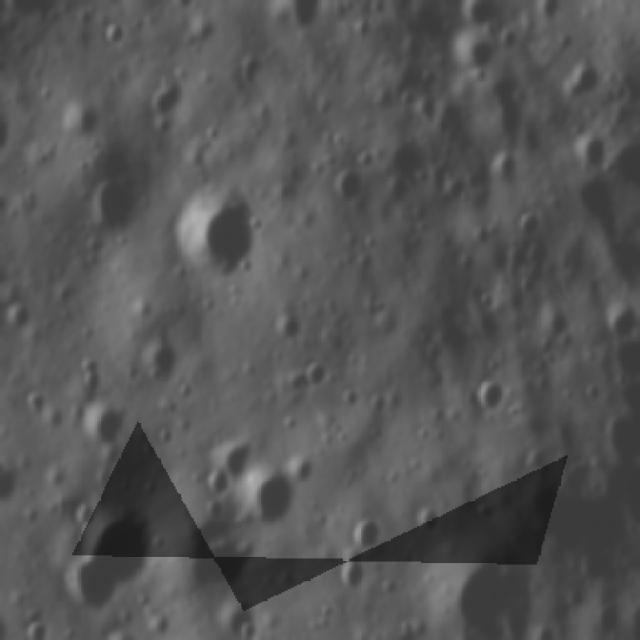crater: (168, 186, 255, 288), (60, 511, 154, 603), (238, 480, 302, 528), (547, 65, 595, 109), (606, 296, 634, 339), (333, 562, 364, 600), (353, 516, 381, 558), (572, 140, 606, 174), (484, 381, 519, 414), (509, 209, 540, 245), (76, 356, 101, 395), (23, 611, 54, 640), (204, 472, 231, 502), (302, 358, 323, 392), (94, 24, 118, 53), (489, 157, 520, 177), (464, 1, 490, 22), (107, 626, 144, 640), (0, 96, 6, 162), (158, 0, 196, 9), (0, 461, 9, 494)
